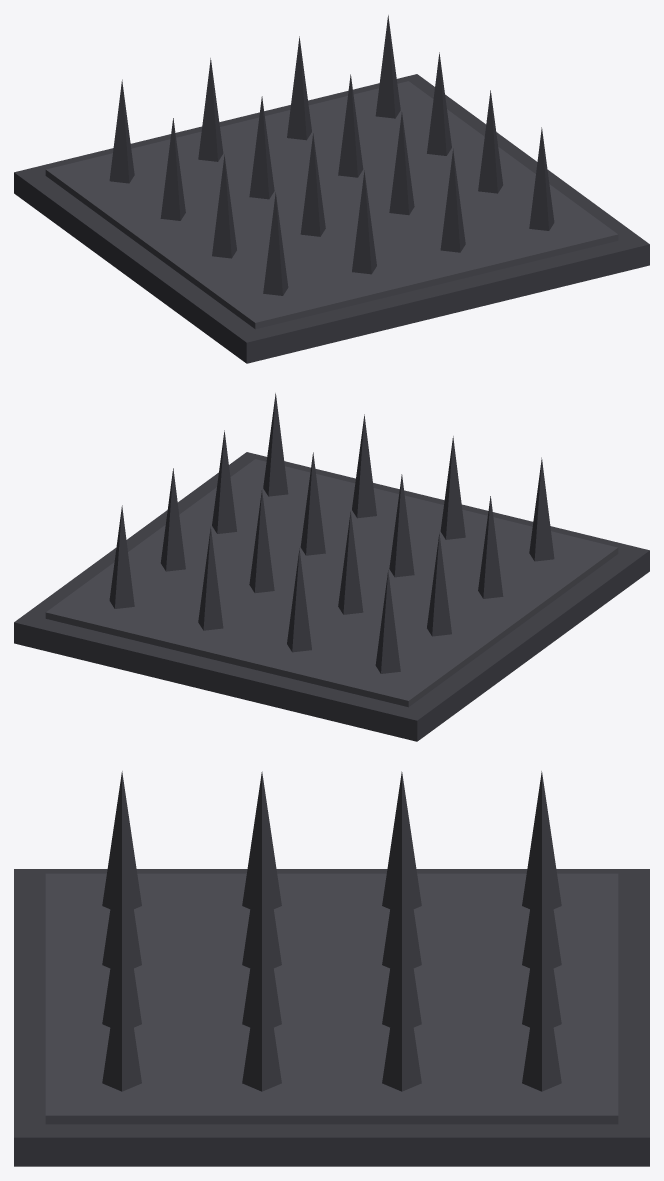
Rendered from spike_trap.glb.
3 renders of one model, top to bottom at view 1: azimuth 30°, elevation 25°; view 2: azimuth 150°, elevation 25°; view 3: azimuth 270°, elevation 25°, orthographic. The views are drawn at different scales.
Parts seen in each view (by area): view 1: spike_trap, Spikes; view 2: spike_trap, Spikes; view 3: spike_trap, Spikes.
Boxes of the visible parts, x1=… form: spike_trap: x1=14, y1=74, x2=649, y2=363; Spikes: x1=109, y1=15, x2=554, y2=295; spike_trap: x1=14, y1=452, x2=649, y2=741; Spikes: x1=109, y1=393, x2=554, y2=673; spike_trap: x1=14, y1=869, x2=649, y2=1166; Spikes: x1=102, y1=771, x2=561, y2=1091.
Size of the model in its own units: 2 by 0.6 by 2.
1 material, 1 textured.
